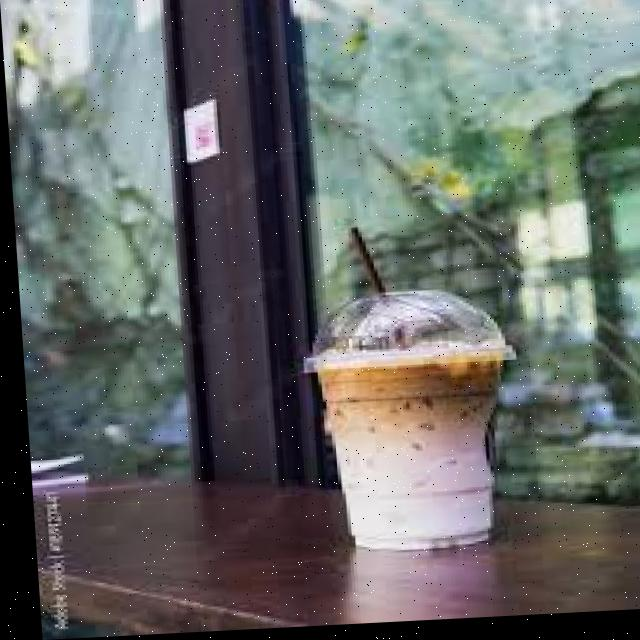cup: (319, 368, 495, 551)
